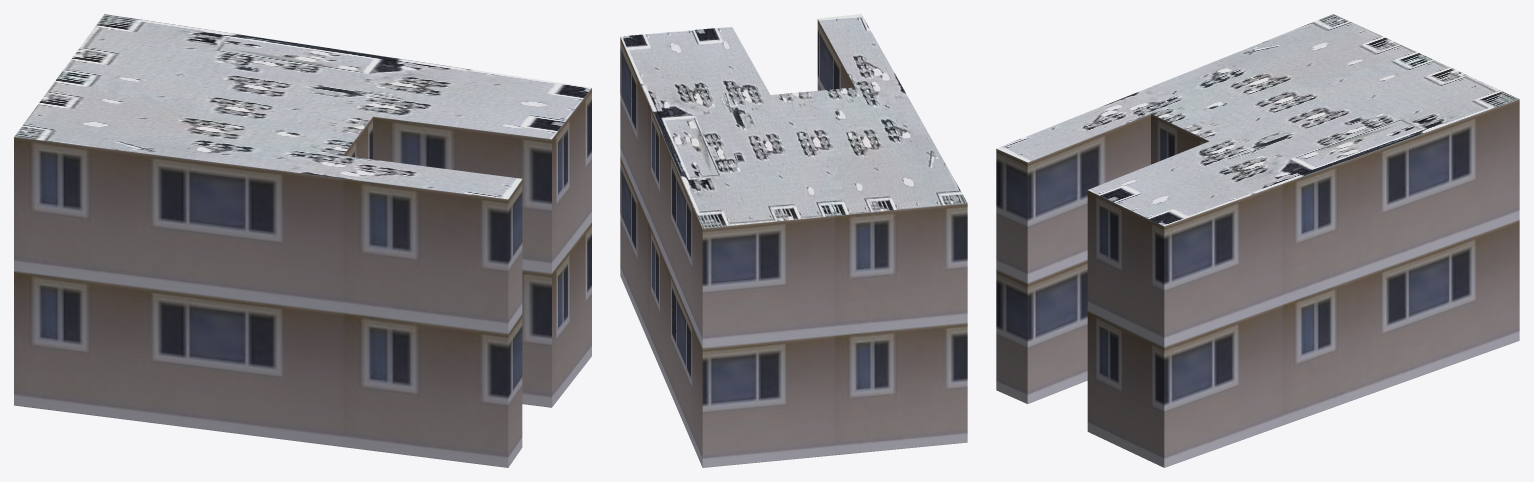
File: ResTex__4090.fbx
3 renders of one model, left to right at view 1: azimuth 30°, elevation 25°; view 2: azimuth 150°, elevation 25°; view 3: azimuth 270°, elevation 25°, orthographic. The views are drawn at different scales.
Parts seen in each view (by area): view 1: CityEngineMaterial_21_m, CityEngineMaterial_2_m; view 2: CityEngineMaterial_21_m, CityEngineMaterial_2_m; view 3: CityEngineMaterial_21_m, CityEngineMaterial_2_m.
Boxes of the visible parts, <box> form: CityEngineMaterial_21_m: <box>14,88,591,467</box>; CityEngineMaterial_2_m: <box>14,14,591,199</box>; CityEngineMaterial_21_m: <box>620,19,967,467</box>; CityEngineMaterial_2_m: <box>620,14,967,228</box>; CityEngineMaterial_21_m: <box>996,99,1519,467</box>; CityEngineMaterial_2_m: <box>996,14,1519,226</box>.
Bounding box in the file's own units: 11.31 × 6 × 11.78.
2 materials, 2 textured.
